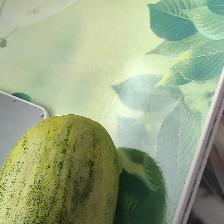gua: (28, 120, 103, 219)
